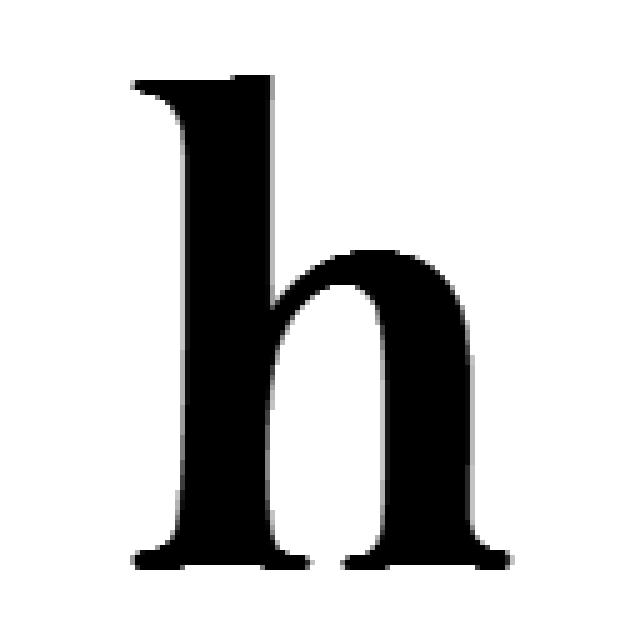H: (130, 75, 510, 570)
